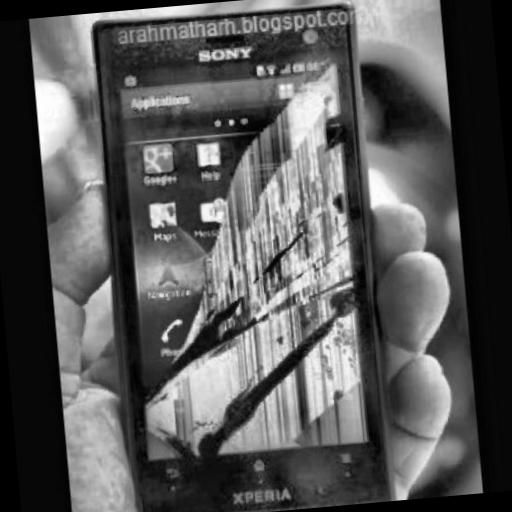phone: (87, 7, 394, 512)
